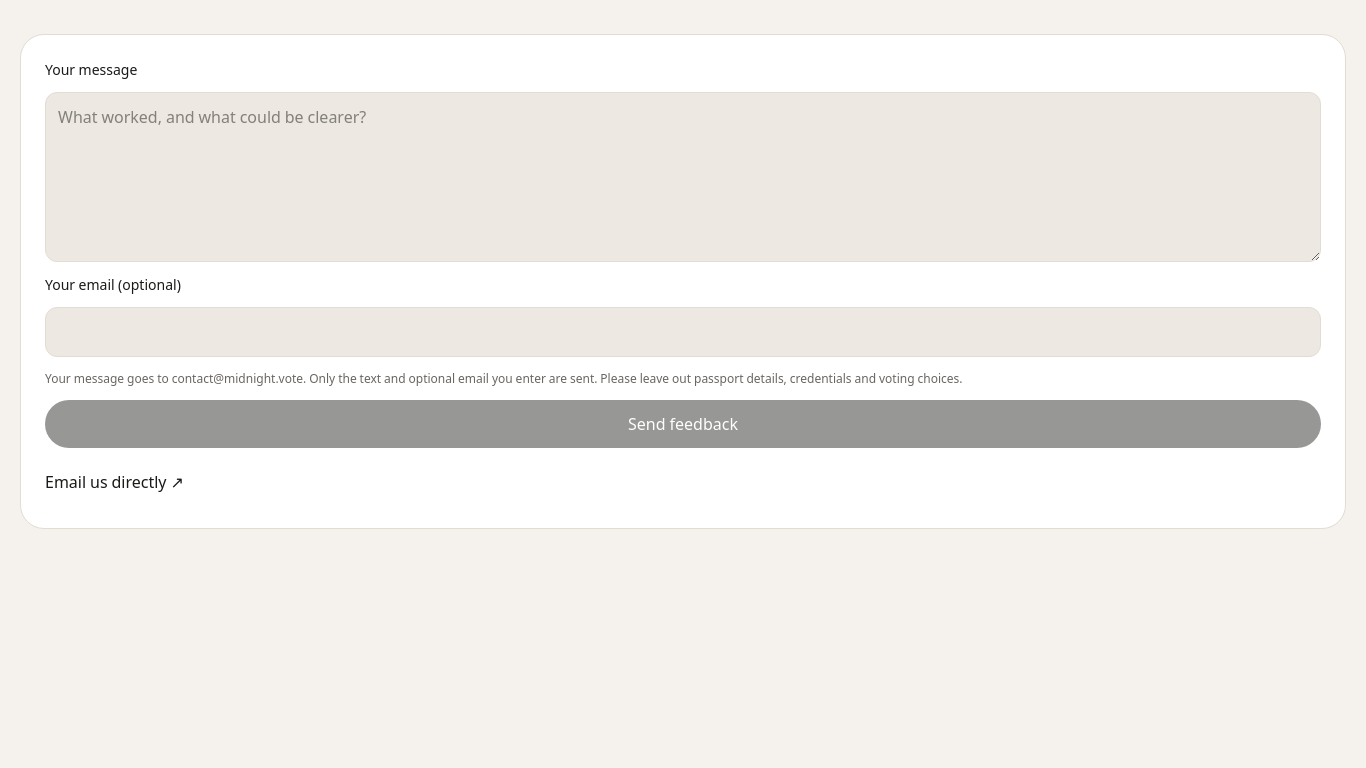
Scenario: feedback submission › shows rate limits without claiming success
The width and height of the screenshot is (1366, 768).
Type "A useful feedback message." into the text box labelled "Your message" at (683, 177), box [45,92,1321,262]
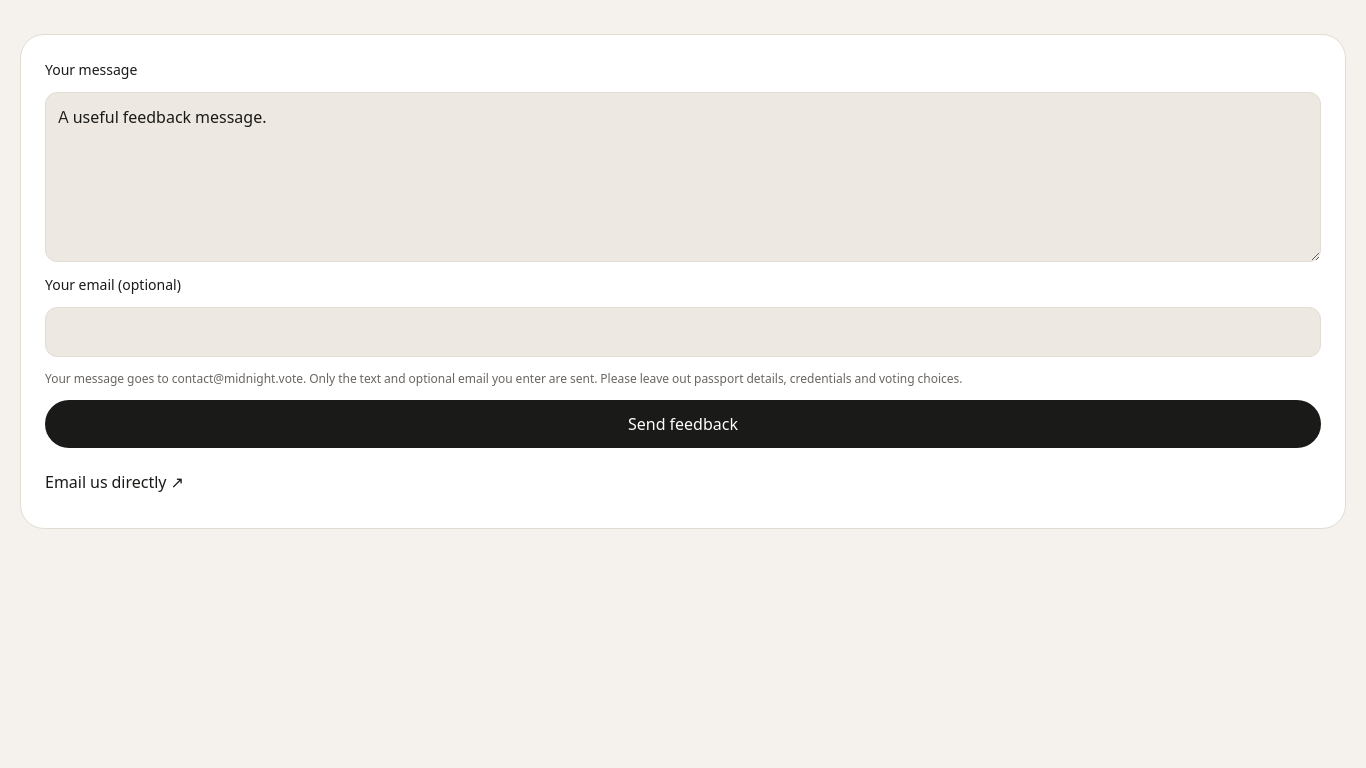
Click the button "Send feedback" at (683, 424), box [45,400,1321,448]
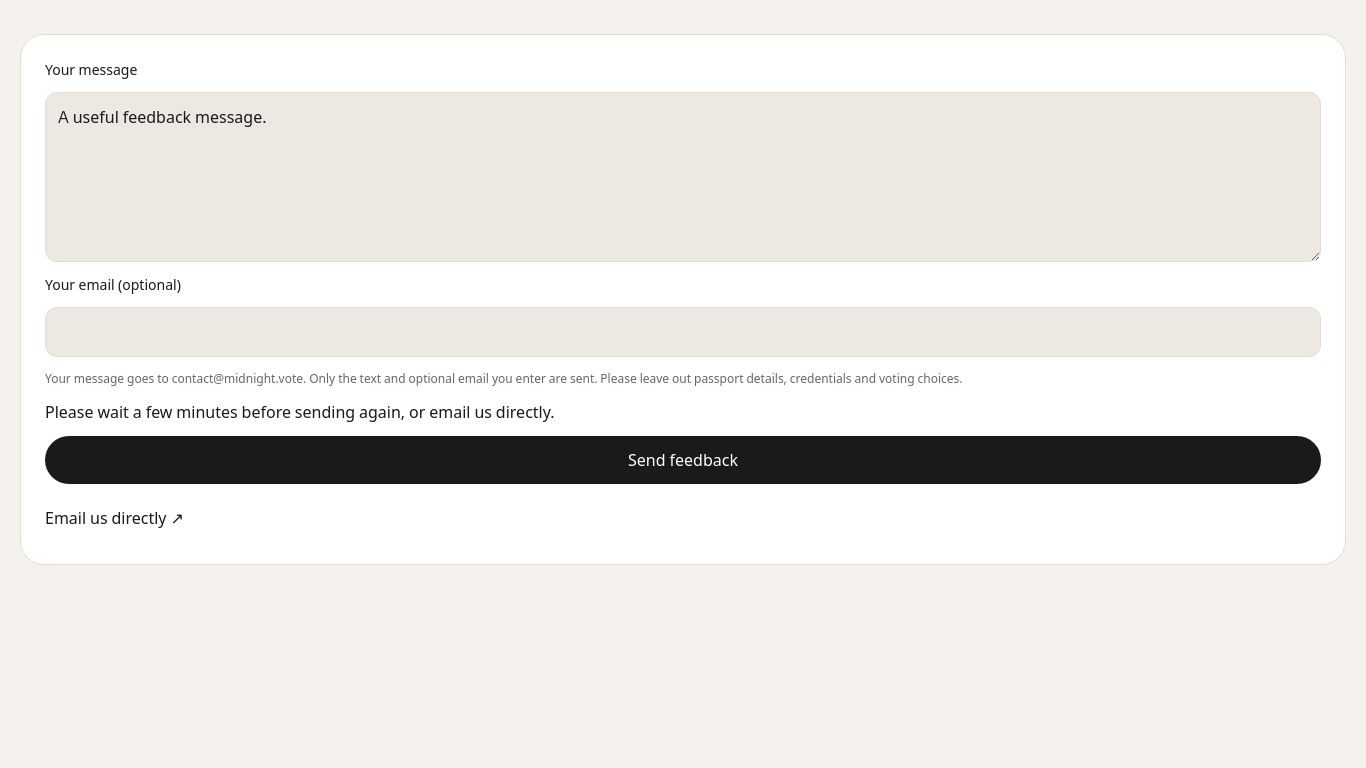
Result: the message shows "wait a few minutes" at [45,402,554,422]
